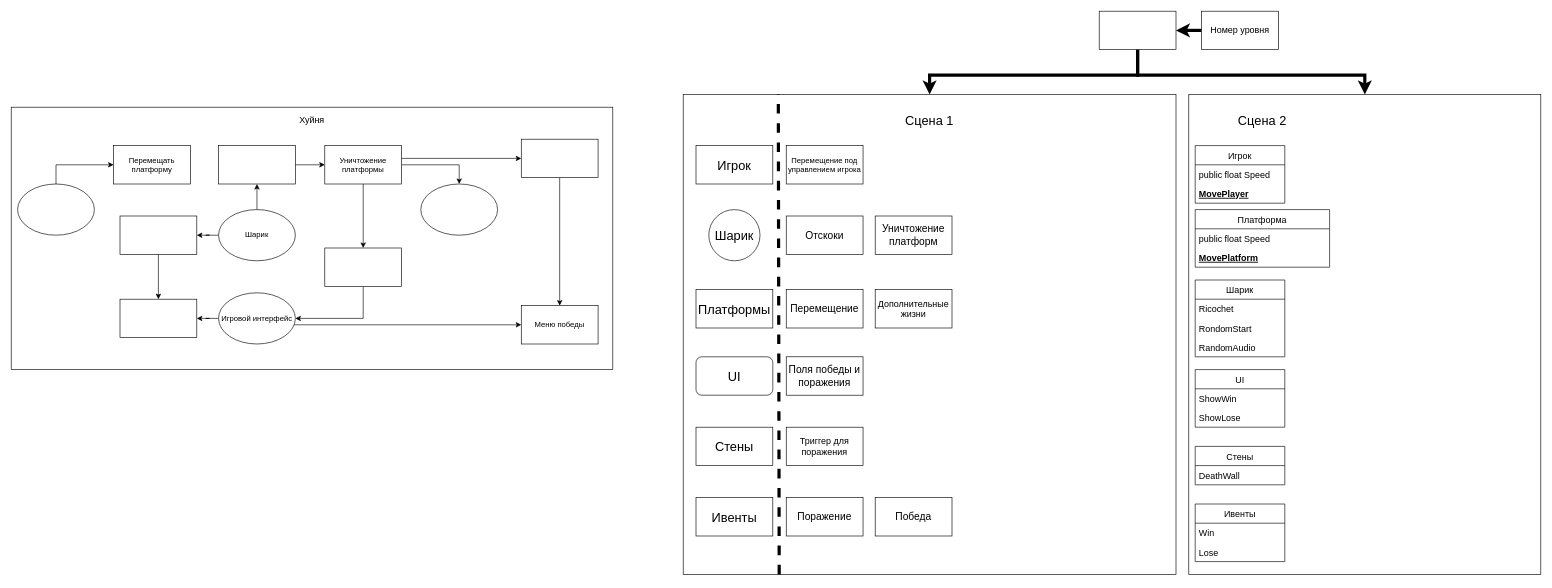
Some shapes in this 1552 by 588 pixel diagram are drawn without their labels. The shapes that lost their labels are listed below. From the top down, each one's centre as x and y in pixels, then its label:
At point 1137,30: "Game Manager".
At point 256,164: "Отскакивать от платформы".
At point 559,158: "Уничтожение последней платформы".
At point 55,209: "Игрок - платформа".
At point 459,209: "Враги - платформы".
At point 158,234: "Уход за нижнюю зону = смерть".
At point 363,266: "Повышение количества очков".
At point 158,318: "Меню конца игры".
